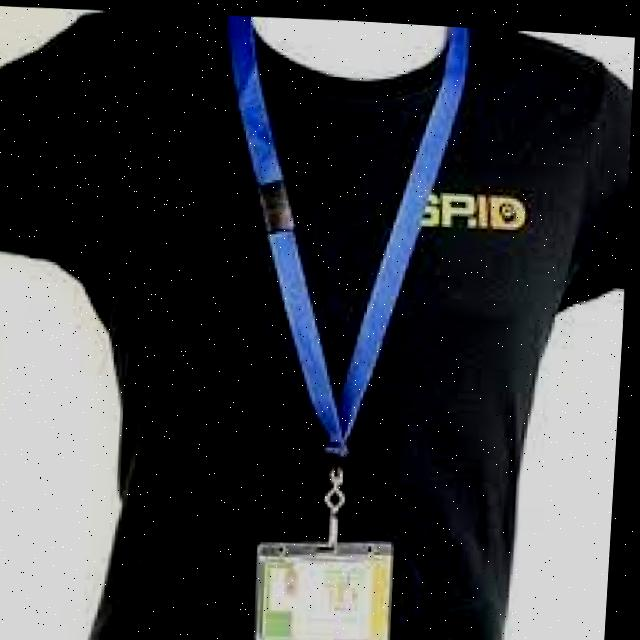id_card: (183, 10, 452, 640)
